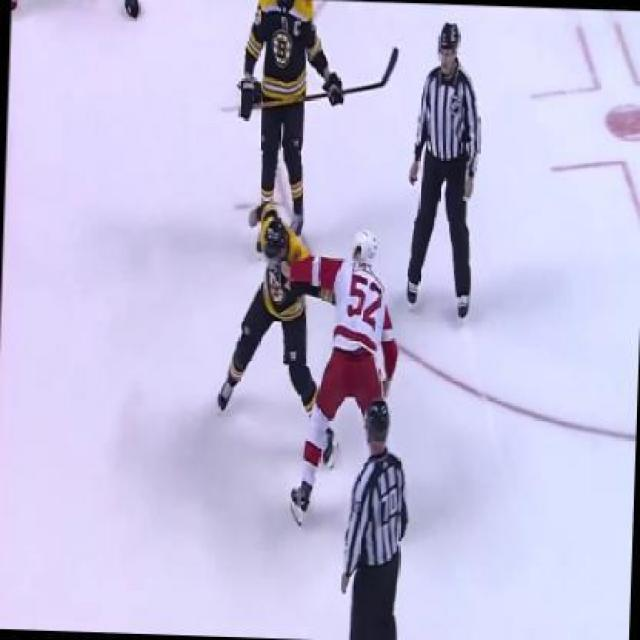fight: (216, 203, 401, 514)
